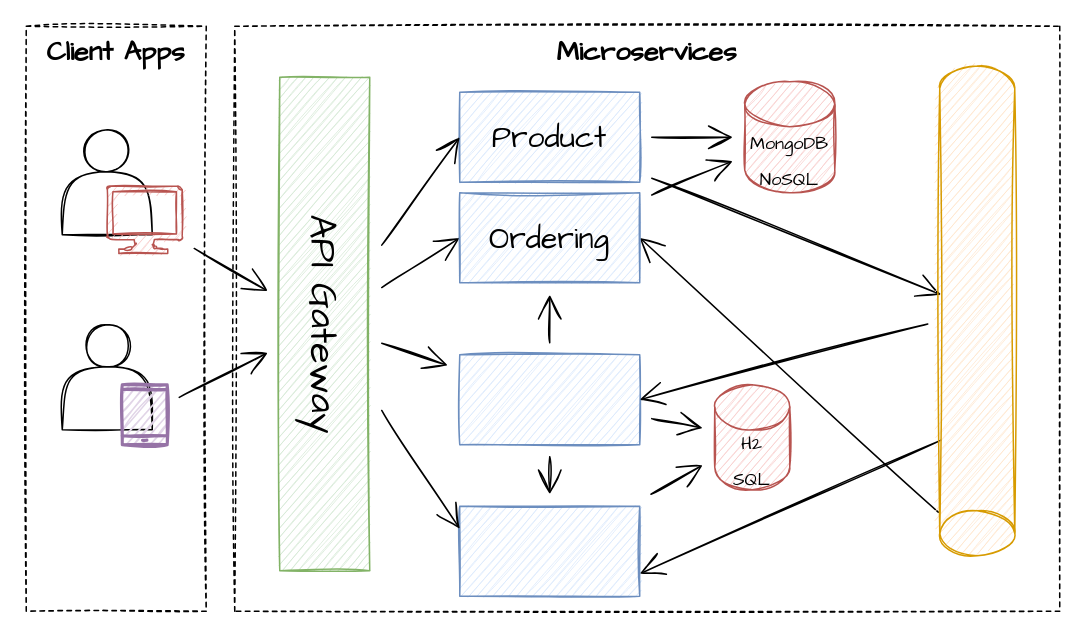
The diagram is 1086 pixels wide and 638 high, and some of its shapes have lost their labels. The centre of each missing label's shape, as x and y in pixels:
"Basket" belongs at point (549, 550).
"Customer" belongs at point (549, 399).
"MESSAGE BROKER RabbitMQ" belongs at point (976, 310).
"Web" belongs at point (144, 219).
